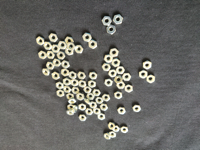nut: (114, 14, 124, 25), (102, 16, 112, 26), (104, 54, 114, 63), (49, 33, 58, 43), (107, 25, 116, 35), (147, 75, 156, 84), (102, 63, 111, 72), (110, 48, 119, 57), (57, 51, 66, 60), (38, 51, 47, 60), (36, 37, 45, 46), (65, 47, 74, 56), (58, 41, 67, 50), (75, 45, 84, 54), (65, 37, 74, 46), (89, 40, 98, 49), (83, 33, 92, 42), (116, 67, 126, 75), (51, 45, 61, 53), (133, 105, 142, 113), (140, 70, 148, 79), (144, 61, 152, 70), (115, 91, 123, 100), (102, 94, 111, 102), (114, 76, 123, 84), (109, 69, 117, 78), (112, 59, 121, 67), (88, 80, 97, 88), (89, 72, 98, 80), (56, 81, 64, 90), (52, 72, 61, 80), (42, 68, 51, 76), (62, 61, 71, 69), (46, 62, 55, 70), (67, 43, 76, 51), (98, 113, 106, 121), (86, 108, 94, 116), (125, 85, 133, 93), (96, 97, 104, 105), (77, 93, 85, 101), (105, 79, 113, 87), (93, 89, 101, 97), (57, 90, 65, 98), (72, 87, 80, 95), (79, 80, 87, 88), (71, 79, 79, 87), (63, 78, 71, 86), (78, 72, 86, 80), (69, 71, 77, 79), (61, 69, 69, 77), (53, 59, 61, 67), (47, 51, 55, 59), (44, 42, 52, 50), (68, 98, 77, 105), (117, 82, 126, 89), (123, 74, 132, 81), (104, 133, 111, 141), (109, 132, 117, 139), (121, 127, 129, 134), (109, 123, 116, 131), (118, 108, 126, 115), (93, 108, 101, 115), (79, 115, 87, 122), (100, 104, 108, 111), (90, 102, 98, 109), (79, 103, 86, 111), (67, 93, 75, 100), (84, 87, 92, 94), (64, 86, 71, 94), (113, 126, 120, 133), (84, 98, 91, 105), (67, 109, 74, 116), (87, 94, 95, 100), (68, 104, 75, 110), (73, 106, 78, 114)
